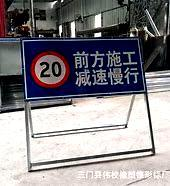sign: (22, 38, 146, 95)
